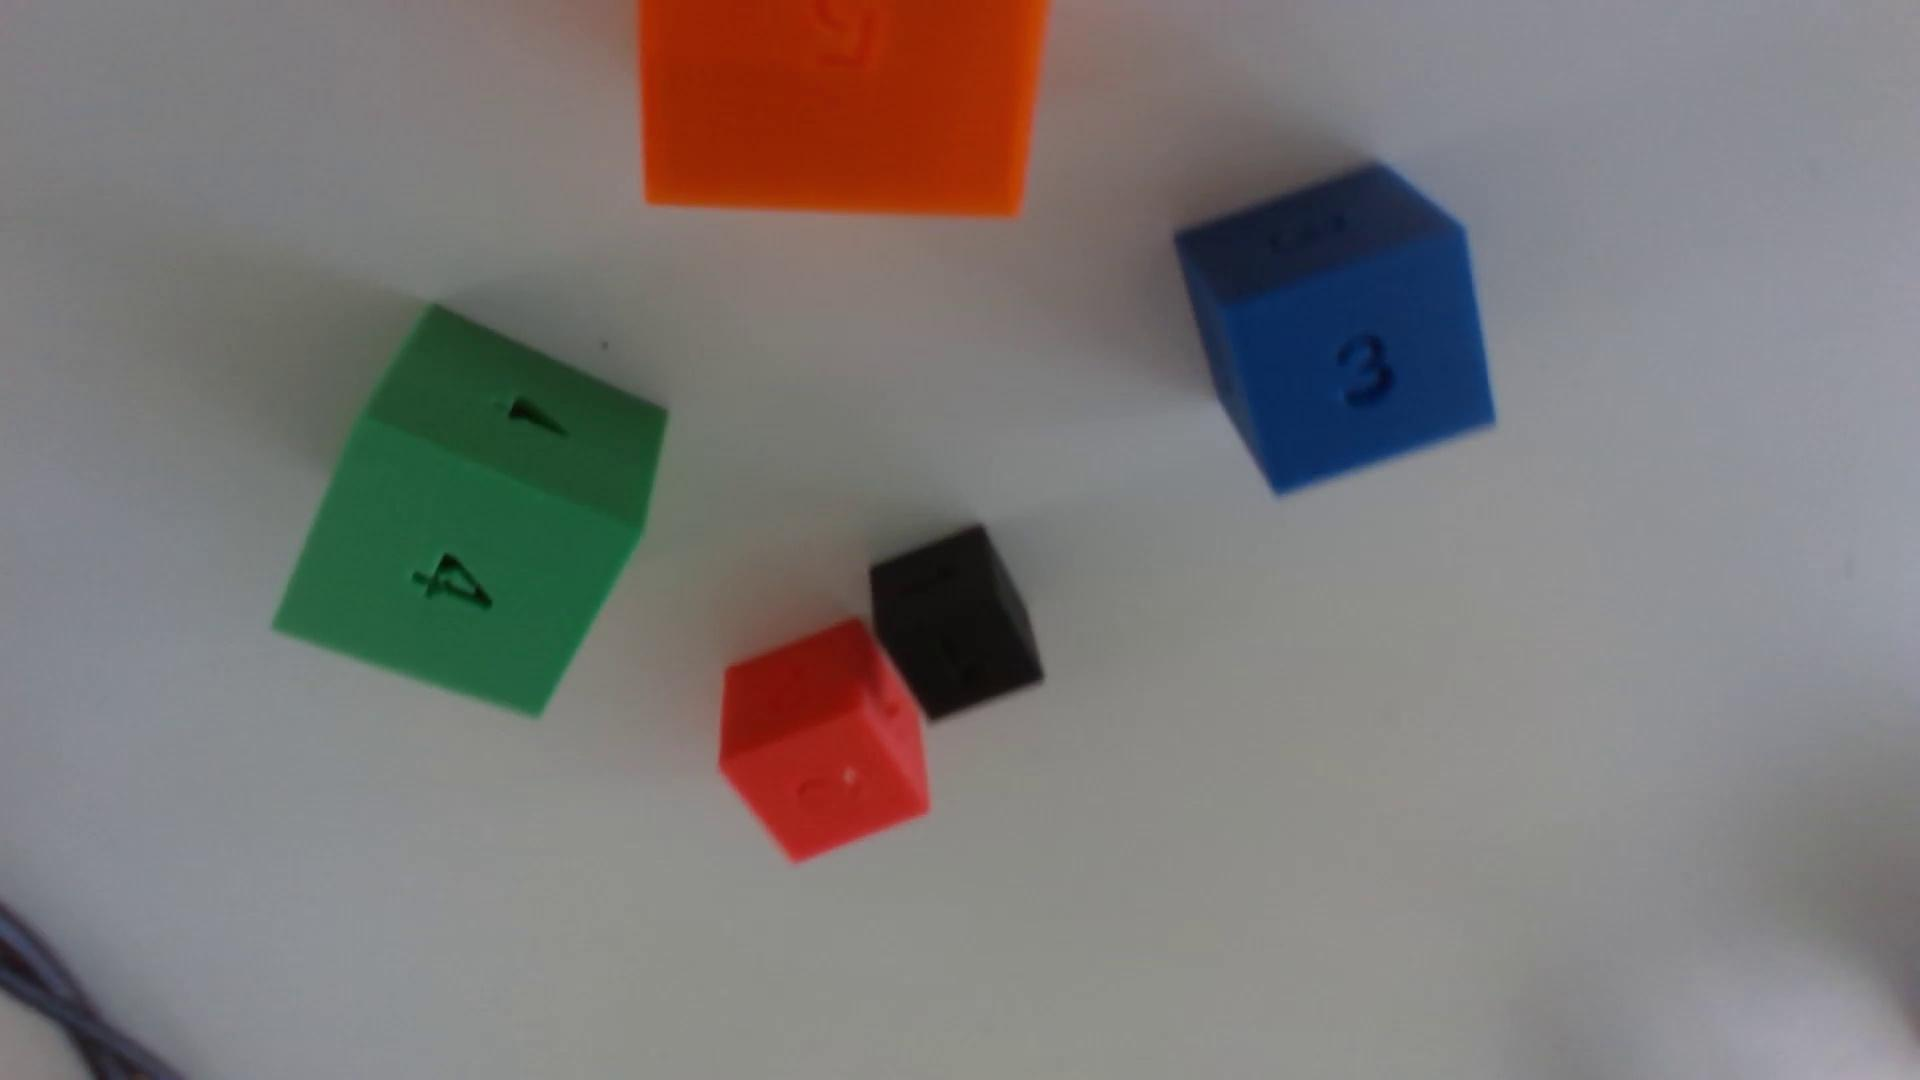black: (868, 524, 1044, 723)
blue: (1174, 164, 1495, 495)
green: (273, 306, 667, 716)
orange: (638, 0, 1048, 216)
red: (719, 618, 931, 861)
